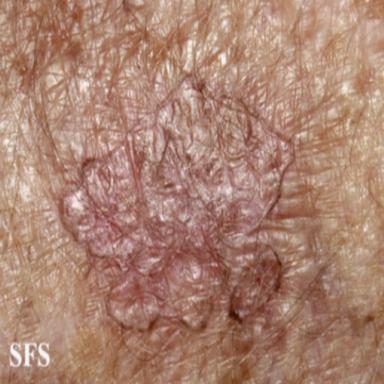Porokeratosis: (61, 77, 293, 358)
